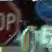Stop: (0, 0, 19, 48)
